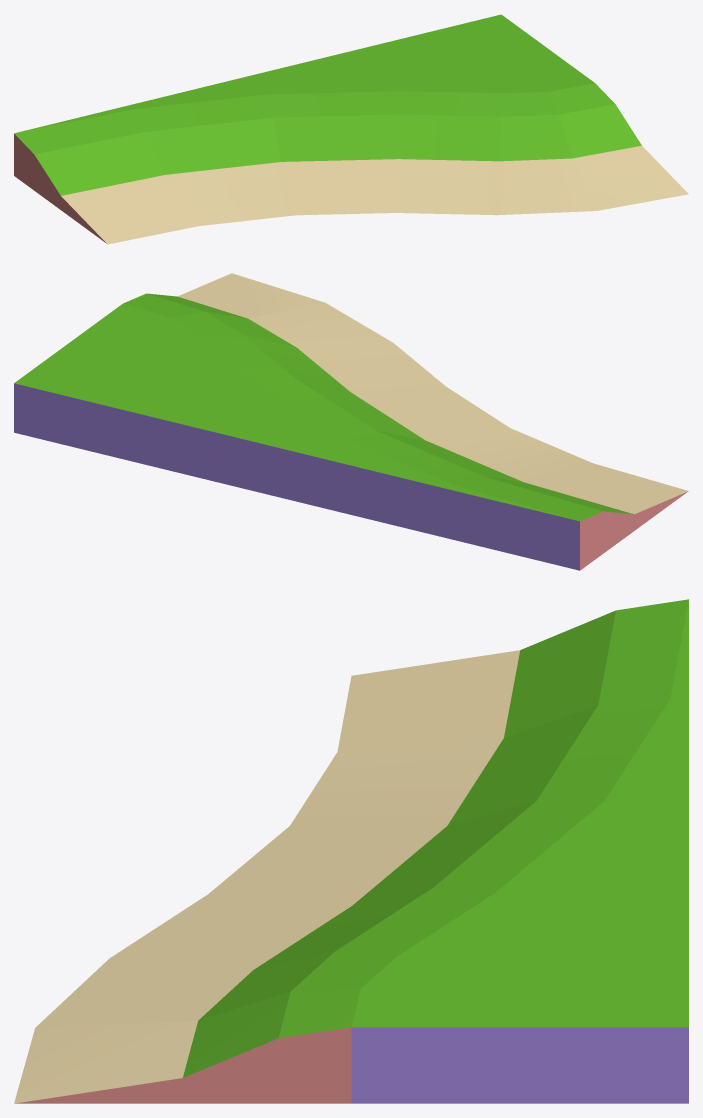
The model's file is Path_Terrain_Basic_Esse_2x3.glb.
The picture shows the model from 3 angles, top to bottom: view 1: azimuth 30°, elevation 25°; view 2: azimuth 150°, elevation 25°; view 3: azimuth 270°, elevation 25°; orthographic projection. The views are drawn at different scales.
Parts seen in each view (by area): view 1: Path_Terrain_Basic_Esse_2x3; view 2: Path_Terrain_Basic_Esse_2x3; view 3: Path_Terrain_Basic_Esse_2x3.
Part boxes in pixels (box(x1,y1,x2,y2)): Path_Terrain_Basic_Esse_2x3: box(14, 14, 688, 244); Path_Terrain_Basic_Esse_2x3: box(14, 273, 688, 570); Path_Terrain_Basic_Esse_2x3: box(14, 599, 688, 1103).
Bounding box in the file's own units: 300 × 25 × 200.
